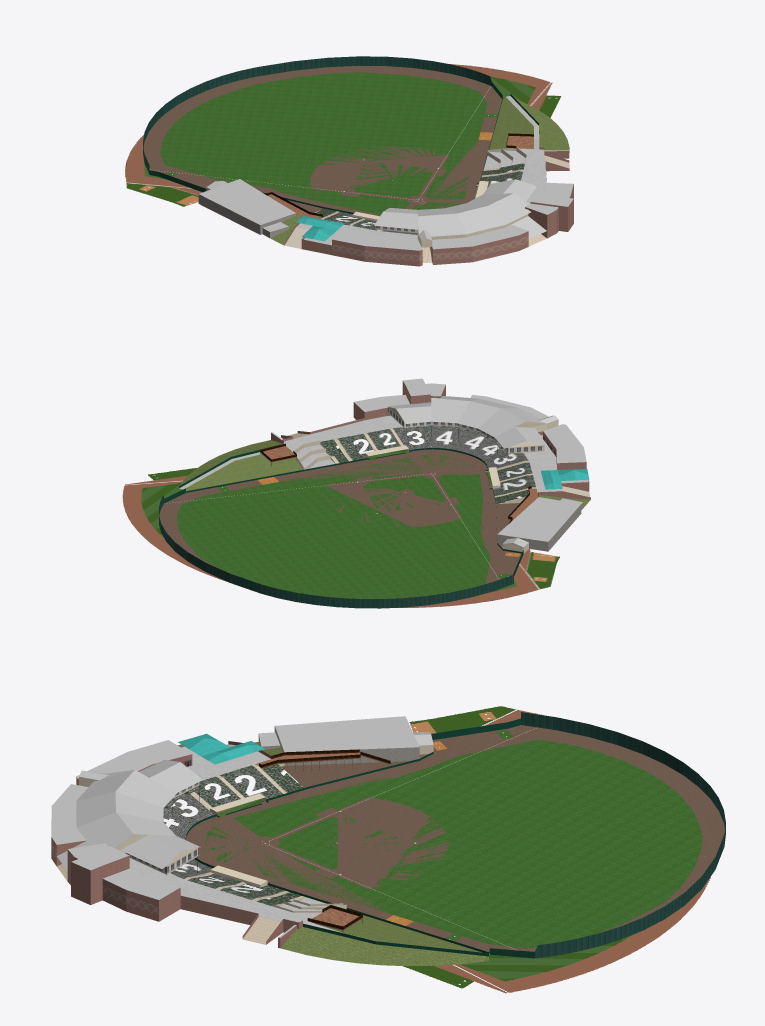
The model's file is bank_of_the_james_stadium.obj.
The picture shows the model from 3 angles, top to bottom: view 1: azimuth 30°, elevation 25°; view 2: azimuth 150°, elevation 25°; view 3: azimuth 270°, elevation 25°; orthographic projection. The views are drawn at different scales.
Visible parts, largest first — view 1: Stadium; view 2: Stadium; view 3: Stadium.
Part boxes in pixels (x1,y1,x2,y2): Stadium: [125, 56, 573, 266]; Stadium: [122, 378, 590, 608]; Stadium: [51, 706, 725, 993].
Size of the model in its own units: 196 by 12.19 by 188.
